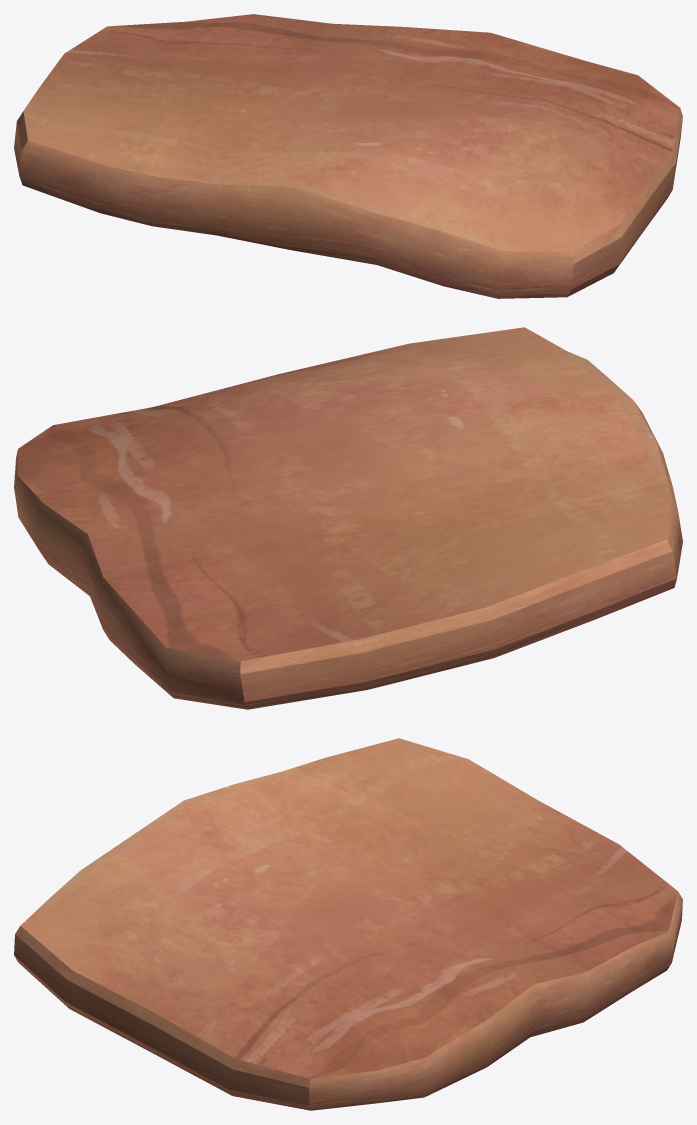
The model's file is flat_rock_1_002.fbx.
The picture shows the model from 3 angles, top to bottom: view 1: azimuth 30°, elevation 25°; view 2: azimuth 150°, elevation 25°; view 3: azimuth 270°, elevation 25°; orthographic projection. The views are drawn at different scales.
Parts seen in each view (by area): view 1: flat rock 1.002; view 2: flat rock 1.002; view 3: flat rock 1.002.
Part boxes in pixels (bbox=[...]): flat rock 1.002: bbox=[14, 14, 682, 298]; flat rock 1.002: bbox=[14, 327, 682, 709]; flat rock 1.002: bbox=[14, 738, 682, 1110].
Bounding box in the file's own units: 2414 × 483 × 2495.
